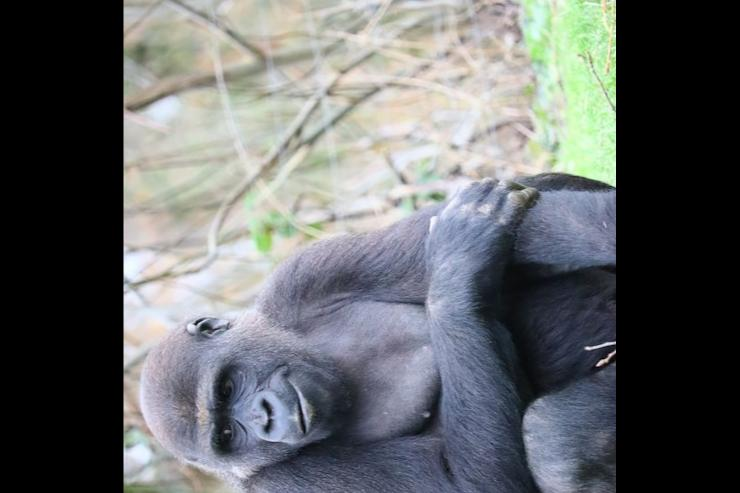gorille_Autres: (123, 152, 616, 493)
